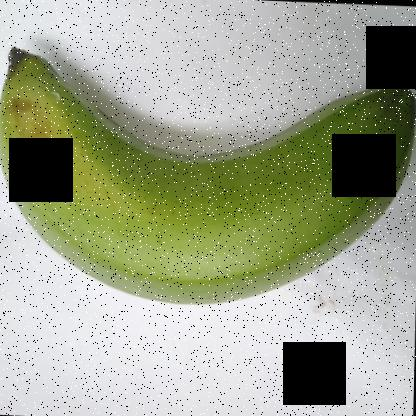freshunripe: (0, 30, 415, 337)
